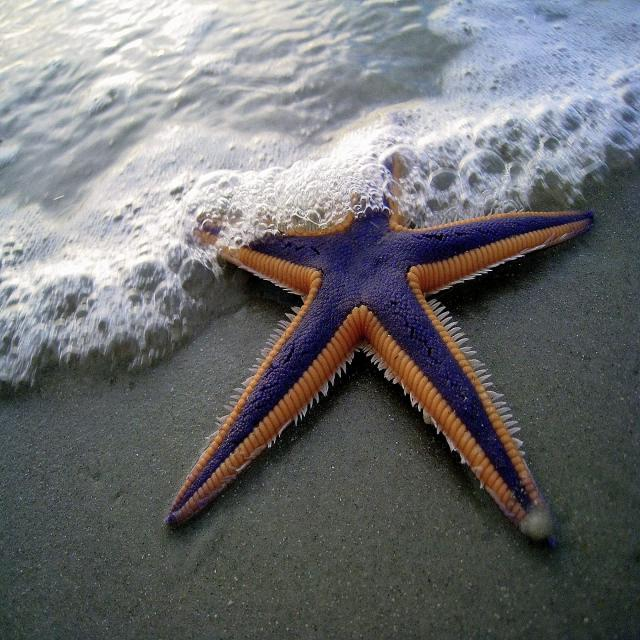starfish: (165, 120, 592, 538)
